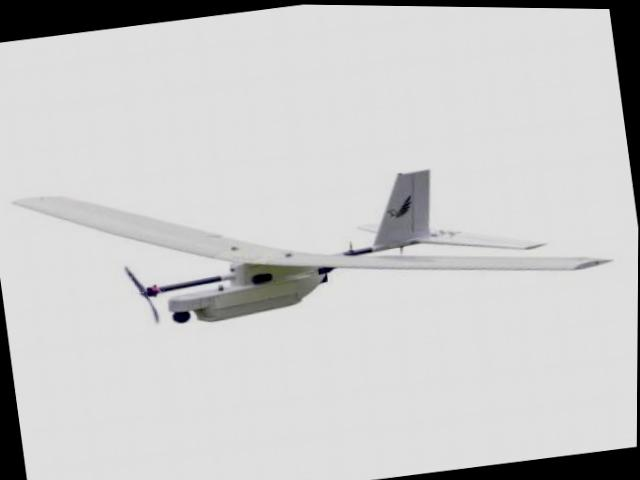uav: (5, 117, 618, 354)
